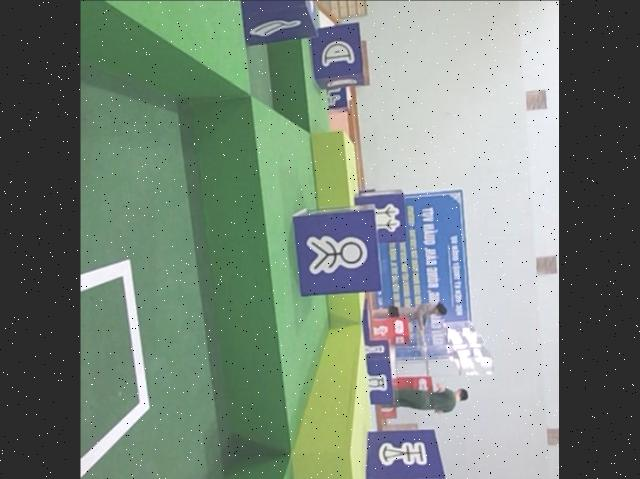R2 Real Blue: (291, 202, 383, 294), (364, 428, 450, 479), (310, 23, 366, 90), (233, 0, 320, 42), (357, 191, 409, 244), (364, 340, 393, 406)
